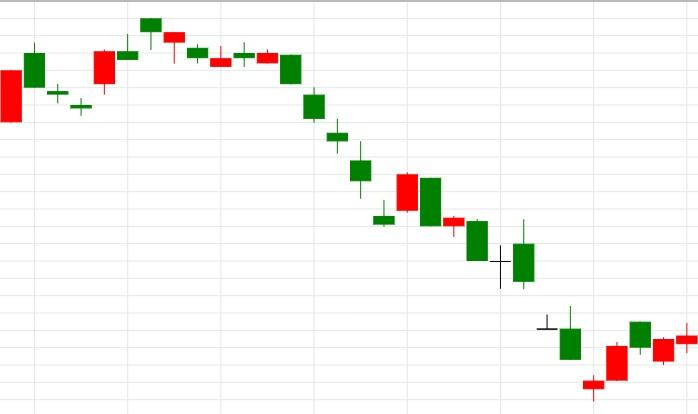hanging_man_fall: (280, 55, 418, 228)
morning_star_rise: (466, 219, 628, 402)
